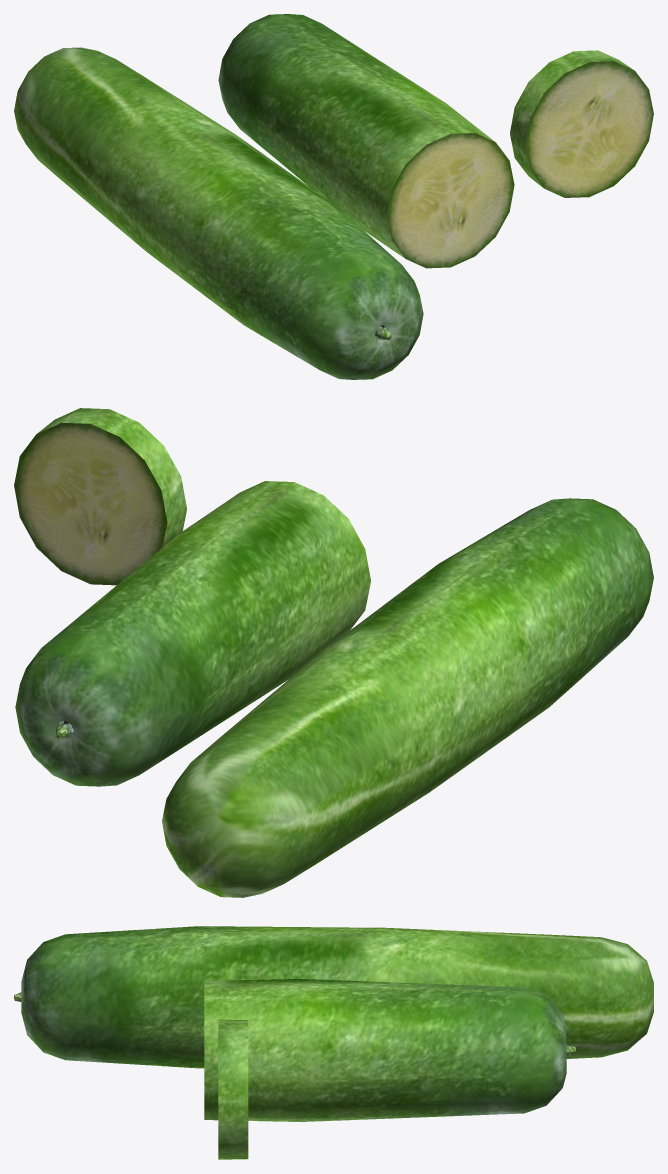
The model's file is timun-cucumber.glb.
The picture shows the model from 3 angles, top to bottom: view 1: azimuth 30°, elevation 25°; view 2: azimuth 150°, elevation 25°; view 3: azimuth 270°, elevation 25°; orthographic projection. The views are drawn at different scales.
Parts seen in each view (by area): view 1: Cylinder, Cylinder.033, Cylinder.034; view 2: Cylinder, Cylinder.033, Cylinder.034; view 3: Cylinder, Cylinder.033, Cylinder.034.
Boxes of the visible parts, bbox=[...] form: Cylinder: bbox=[14, 47, 423, 379]; Cylinder.033: bbox=[218, 14, 514, 268]; Cylinder.034: bbox=[510, 50, 653, 197]; Cylinder: bbox=[162, 498, 653, 897]; Cylinder.033: bbox=[15, 481, 370, 786]; Cylinder.034: bbox=[14, 408, 186, 585]; Cylinder: bbox=[14, 926, 653, 1068]; Cylinder.033: bbox=[204, 979, 575, 1121]; Cylinder.034: bbox=[218, 1019, 248, 1159].
Size of the model in its own units: 1.6 by 0.6587 by 2.14.
1 material, 1 textured.
